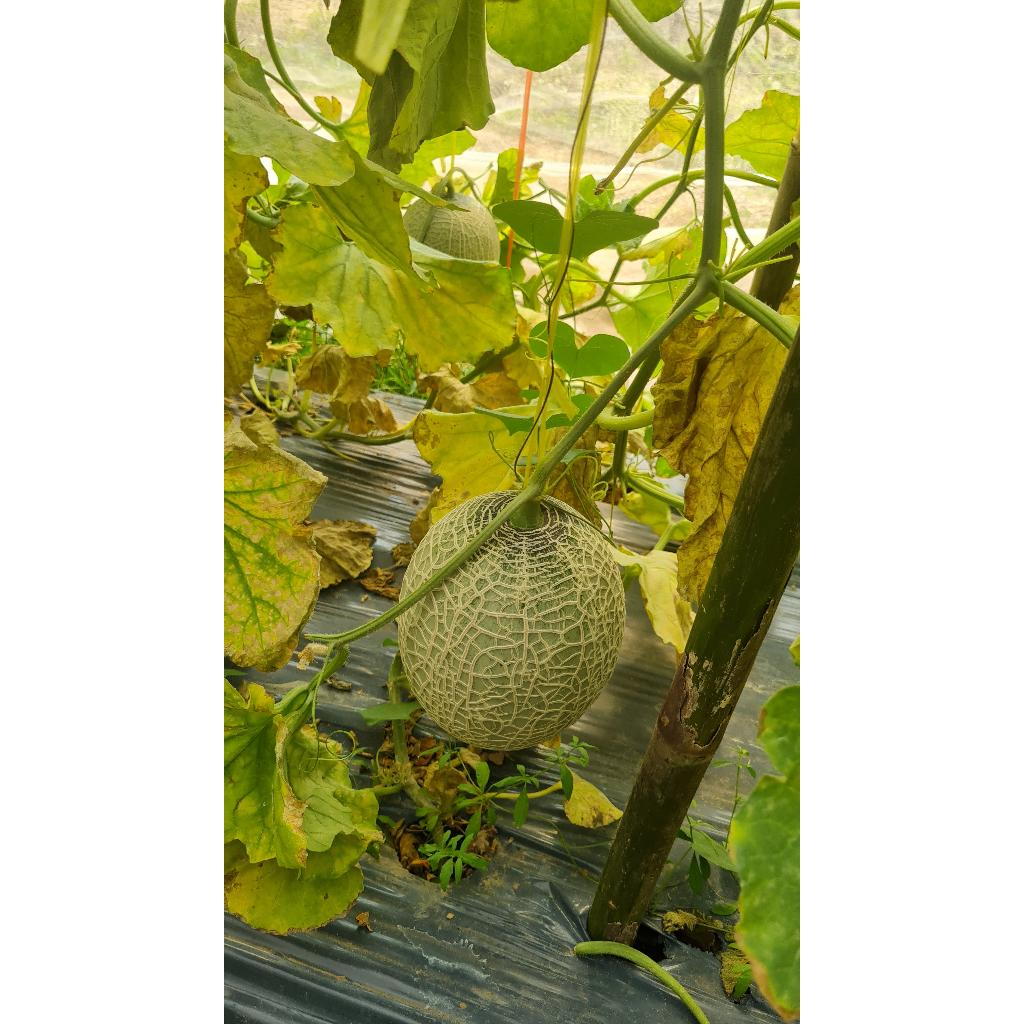melon: (398, 500, 626, 750), (402, 492, 512, 598), (404, 176, 500, 262)
